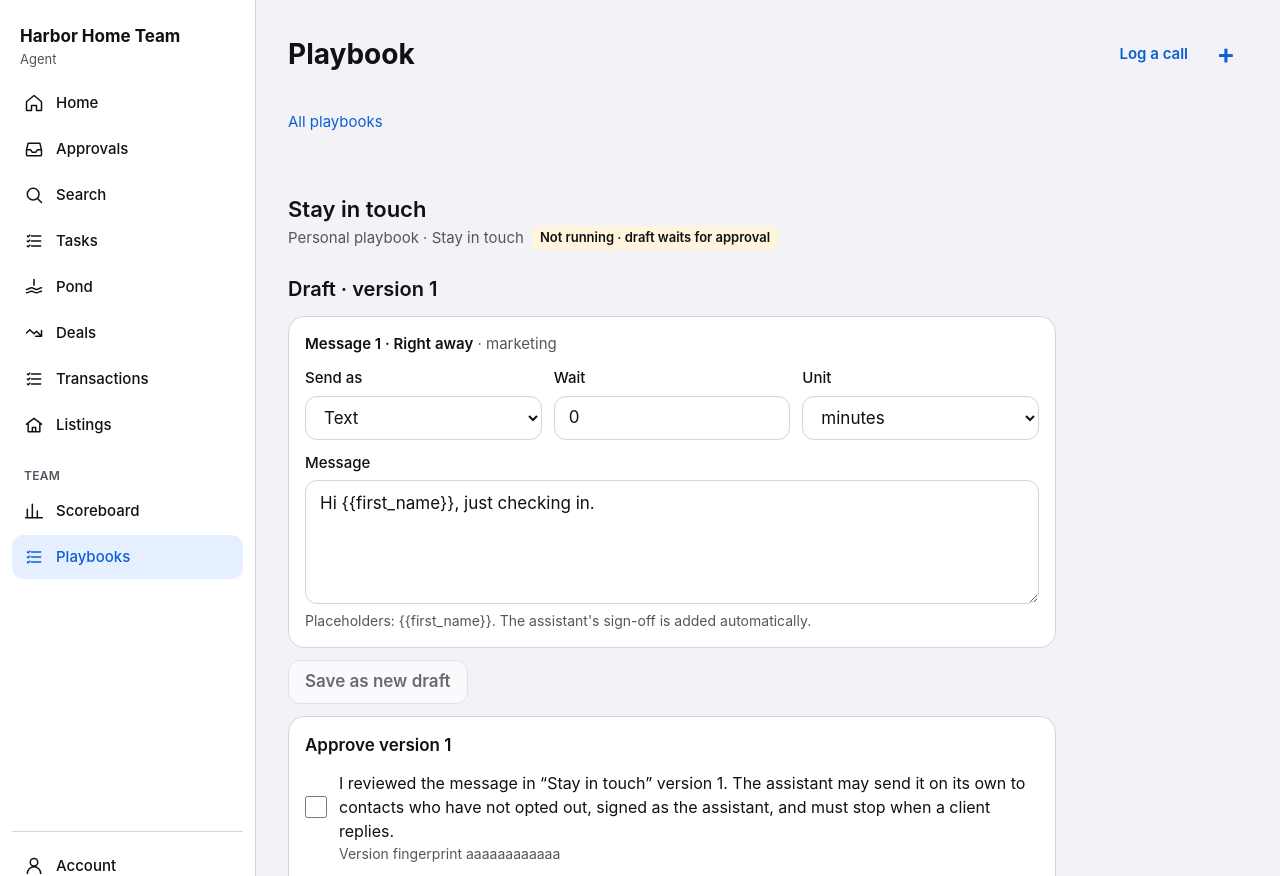
Test: Playbook editor › approving sends the exact attestation shown and the version fingerprint it was reviewed at
The image size is (1280, 876).
Click the checkbox named "I reviewed the message in “Stay in touch” version 1. The assistant may send it on its own to contacts who have not opted".
click(316, 806)  # box [305,796,327,818]
(page scrolled)
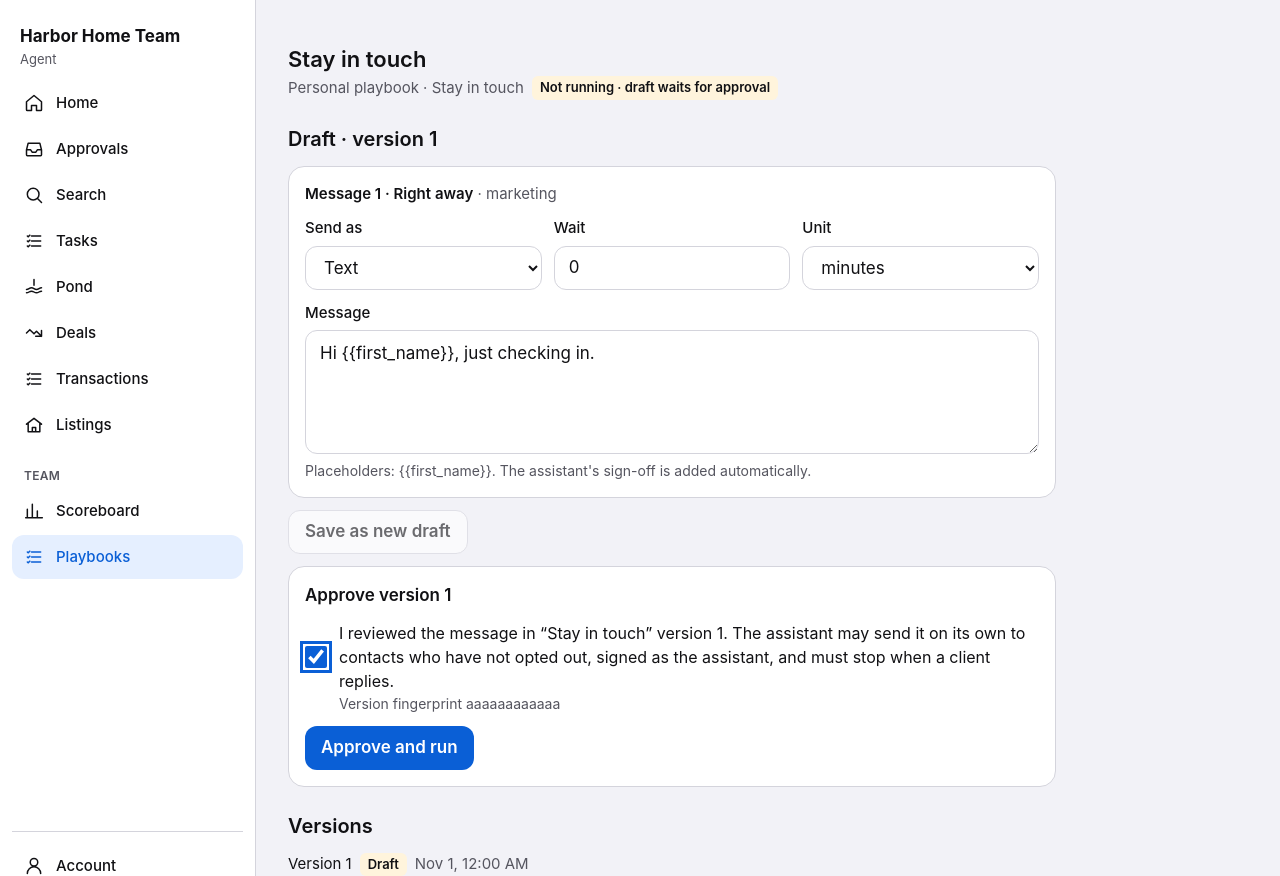
Click the button "Approve and run".
click(389, 748)  # box [305,726,474,770]
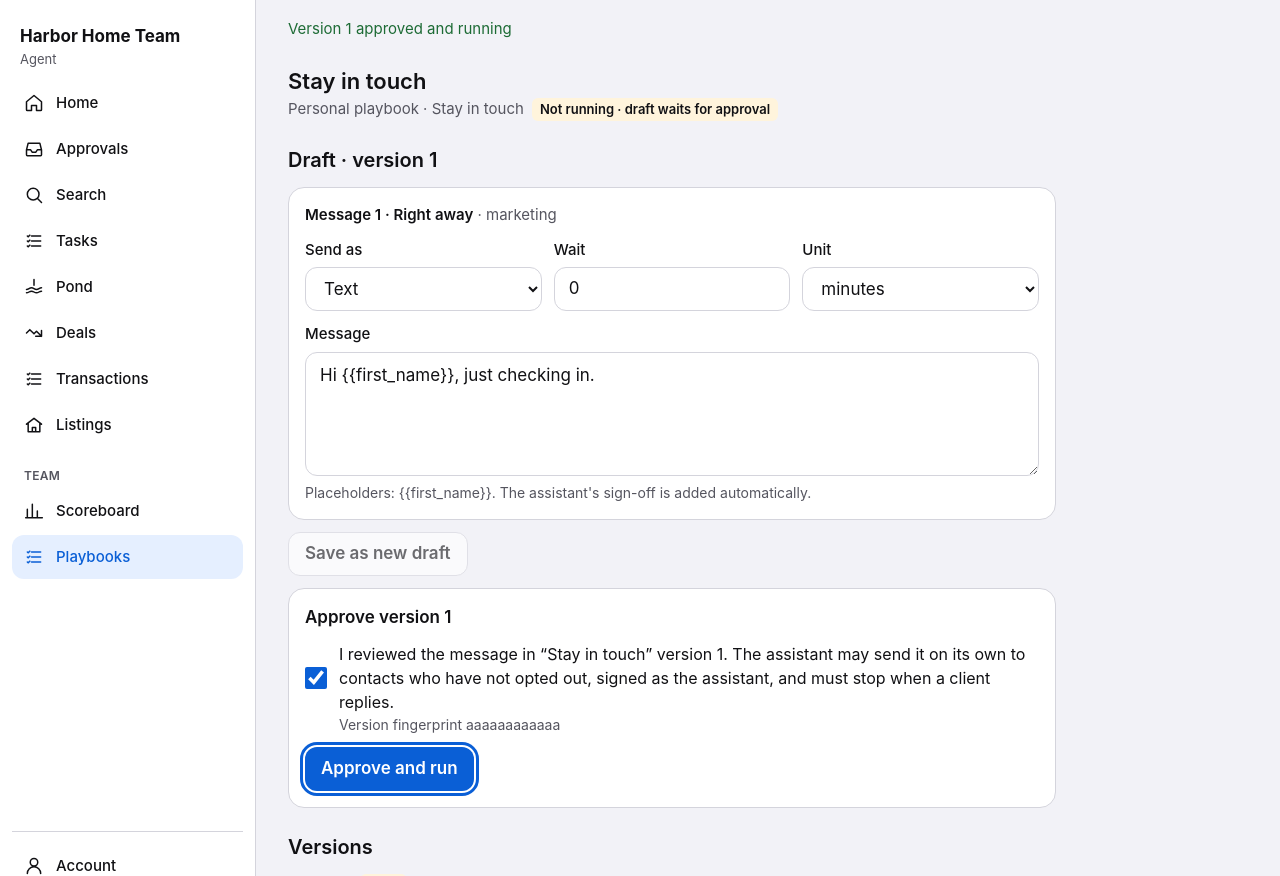
Now the text "Version 1 approved and running" is shown, box [288,19,512,38]
